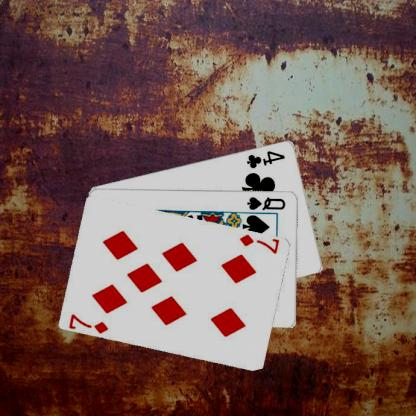4C: (244, 148, 286, 169)
7D: (237, 232, 280, 255), (67, 311, 110, 334)
QS: (245, 194, 287, 211)
